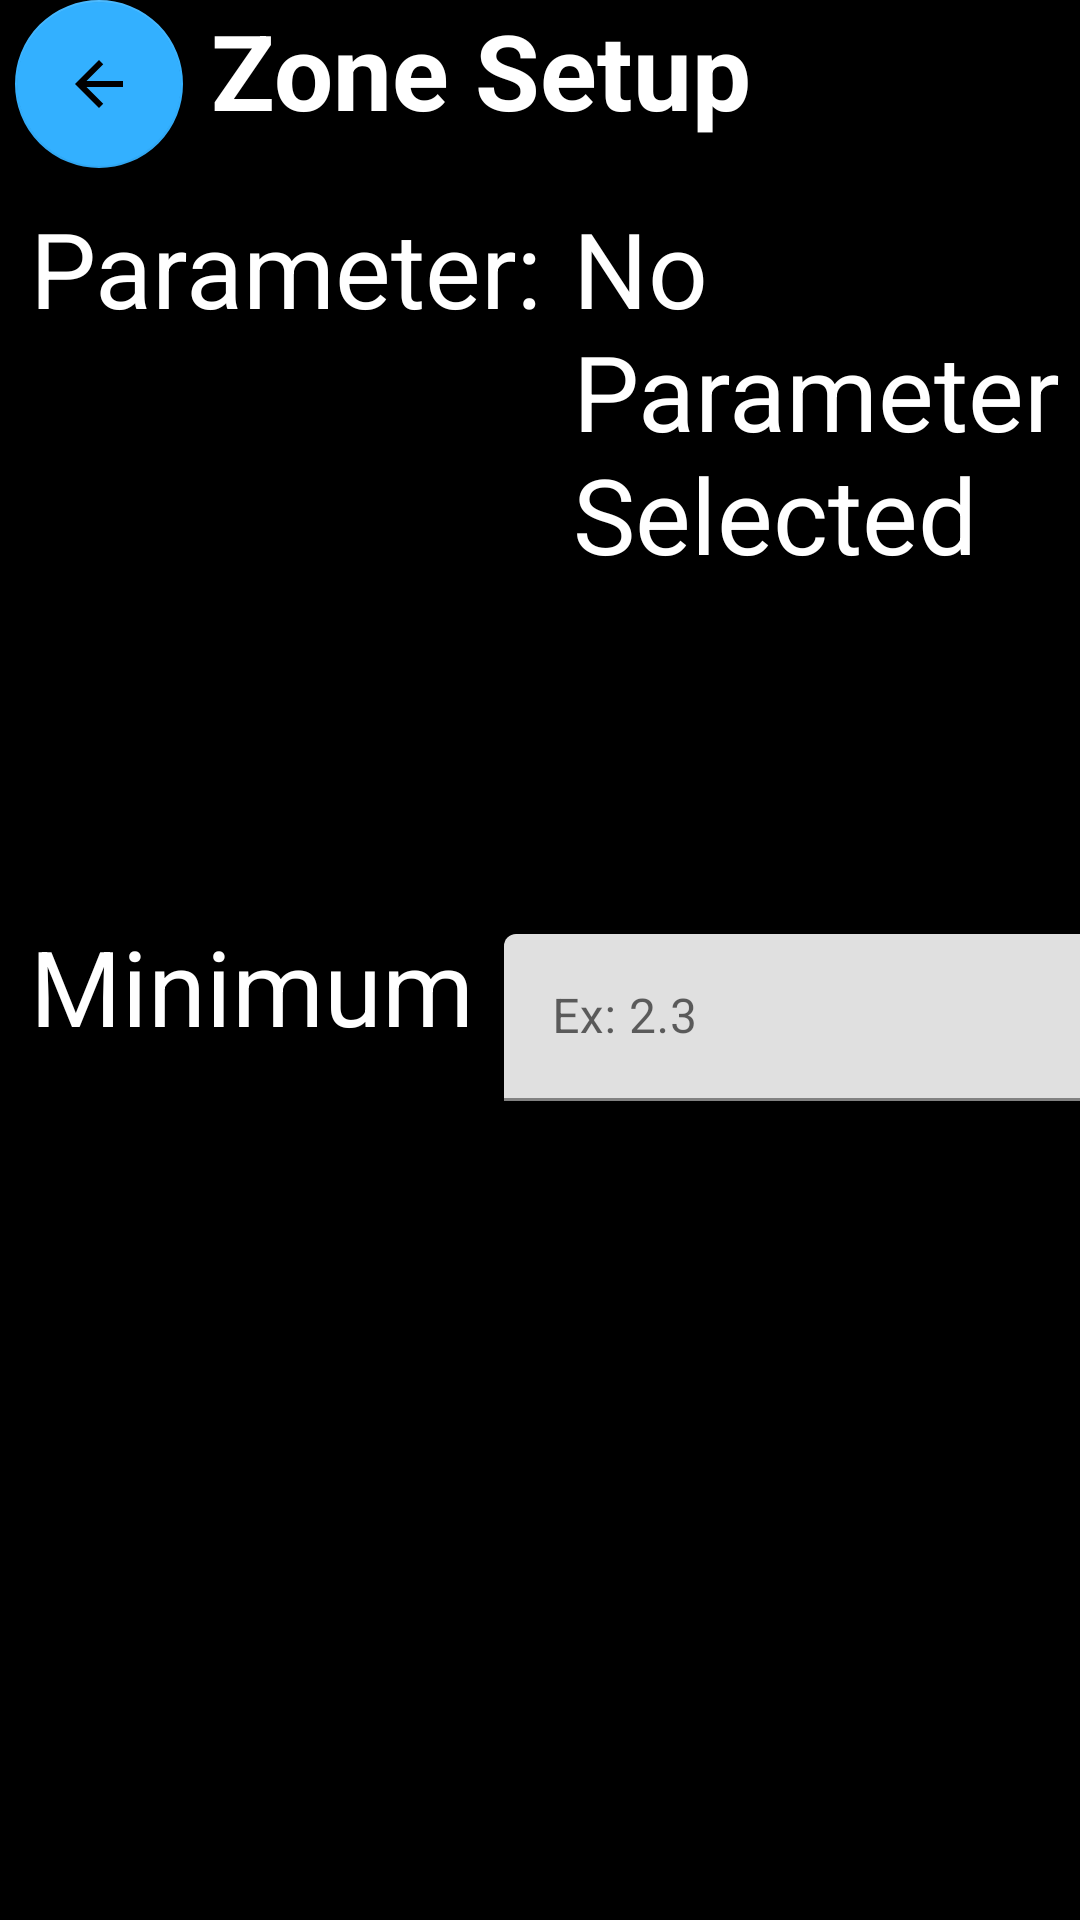

Screen size 1080x1920. Icon name, then its center in pixels as point (x, y):
arrow back: point (99, 84)
